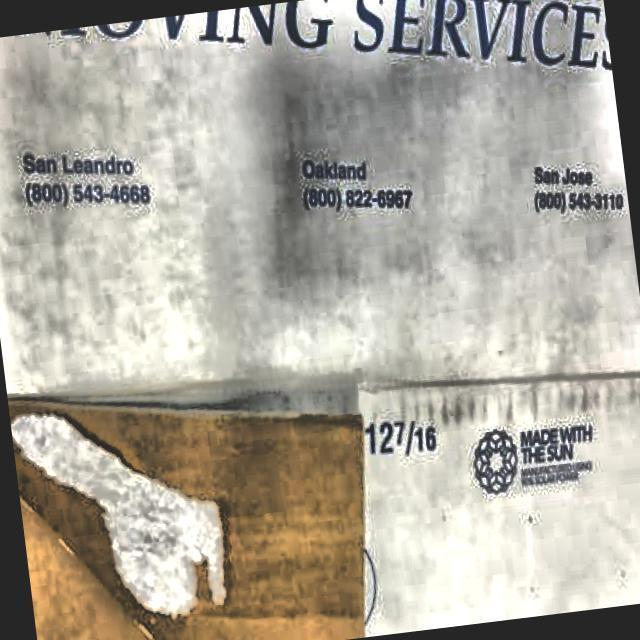cardboard: (6, 345, 389, 640)
